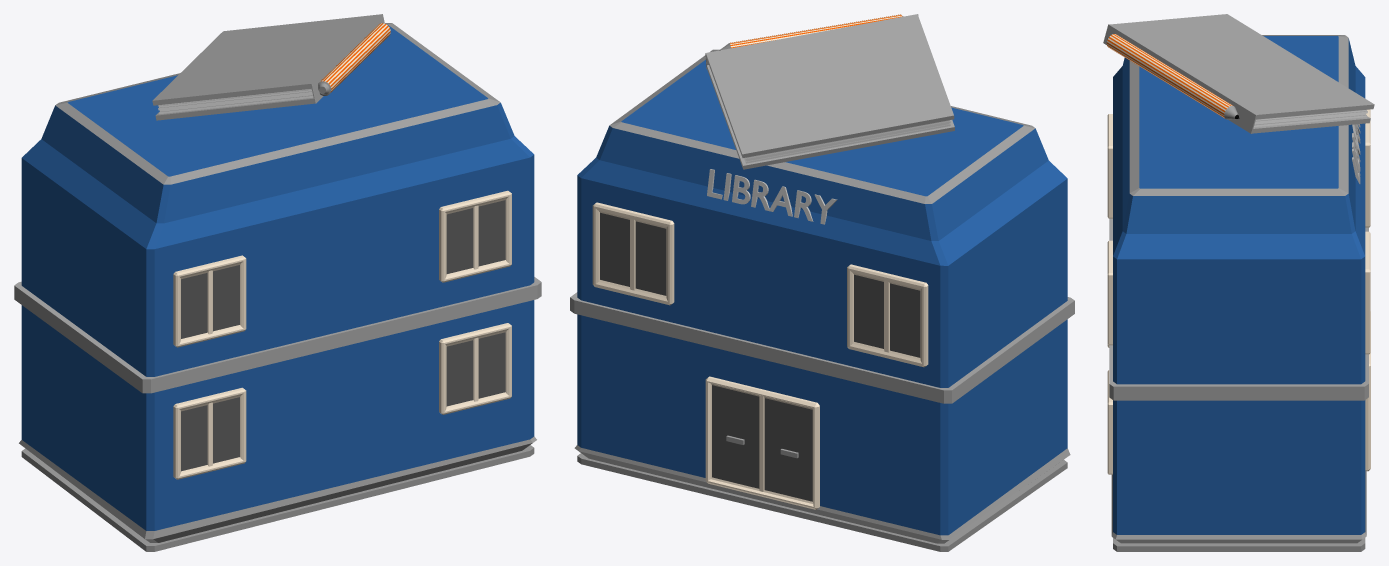
Rendered from library.glb.
3 renders of one model, left to right at view 1: azimuth 30°, elevation 25°; view 2: azimuth 150°, elevation 25°; view 3: azimuth 270°, elevation 25°, orthographic. The views are drawn at different scales.
Parts seen in each view (by area): view 1: LIBRARY_COLOR.008_0; view 2: LIBRARY_COLOR.008_0; view 3: LIBRARY_COLOR.008_0.
Part boxes in pixels (bbox=[...]): LIBRARY_COLOR.008_0: bbox=[14, 14, 541, 551]; LIBRARY_COLOR.008_0: bbox=[570, 14, 1074, 551]; LIBRARY_COLOR.008_0: bbox=[1103, 14, 1374, 551].
Bounding box in the file's own units: 2.76 × 2.86 × 1.66.
1 material, 1 textured.
